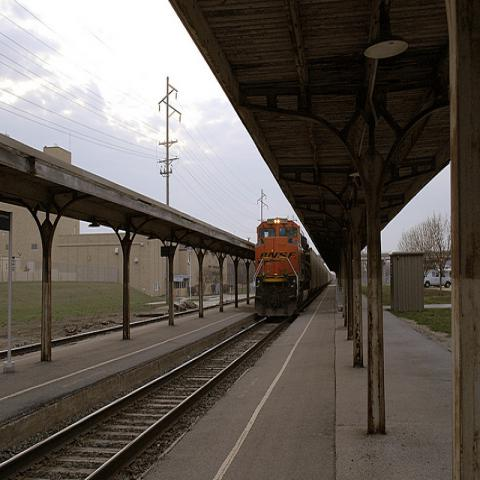car: (423, 270, 452, 289)
